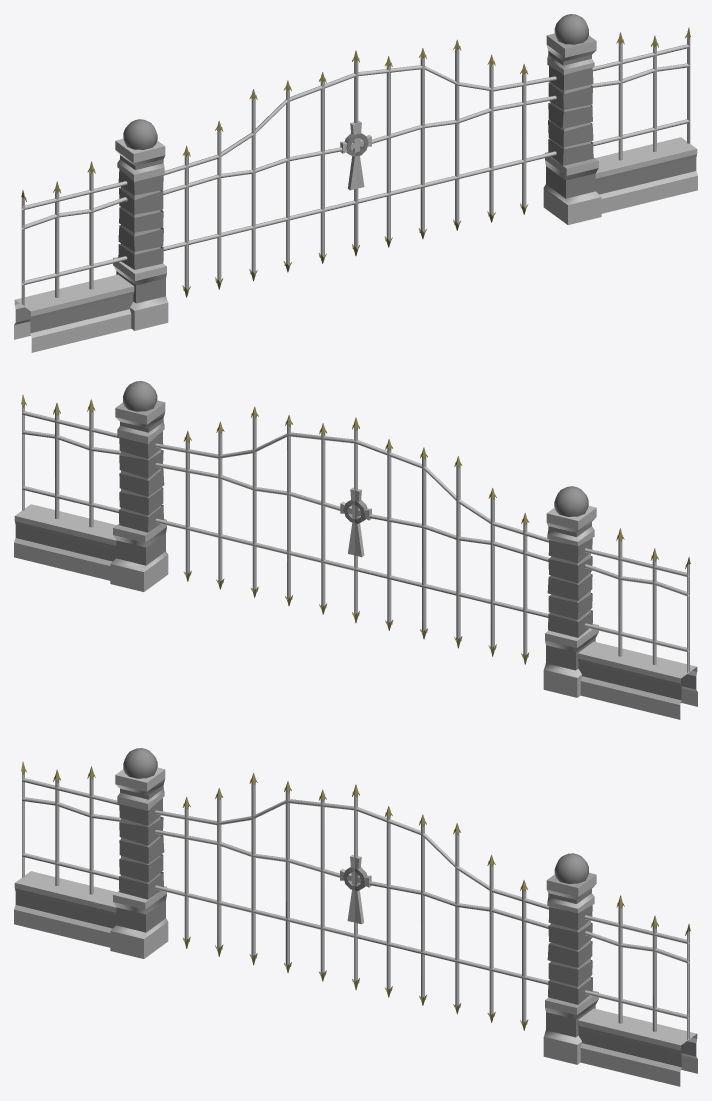
Rendered from Gate_Graveyard_Mod_01.fbx.
The picture shows the model from 3 angles, top to bottom: view 1: azimuth 30°, elevation 25°; view 2: azimuth 150°, elevation 25°; view 3: azimuth 330°, elevation 25°; orthographic projection.
Parts seen in each view (by area): view 1: GateWalls, GateRight, GateLeft; view 2: GateWalls, GateRight, GateLeft; view 3: GateWalls, GateLeft, GateRight.
Part boxes in pixels (x1,y1,x2,y2): GateWalls: (14,14,697,352); GateRight: (163,50,357,297); GateLeft: (356,39,556,255); GateWalls: (14,381,697,719); GateRight: (354,417,548,664); GateLeft: (155,406,355,622); GateWalls: (14,748,697,1086); GateLeft: (354,784,548,1030); GateRight: (154,773,355,989).
Size of the model in its own units: 10 by 3.08 by 0.6284.
